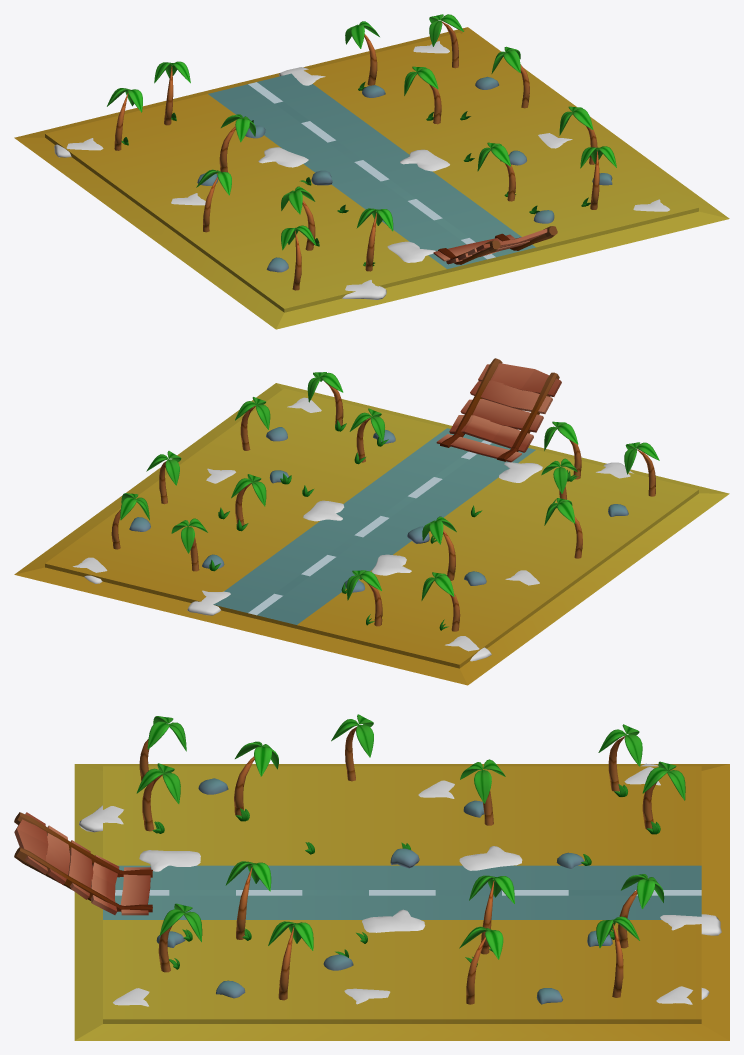
The model's file is взлетка.fbx.
3 views of the same model, one above another, from view 1: azimuth 30°, elevation 25°; view 2: azimuth 150°, elevation 25°; view 3: azimuth 270°, elevation 25° (orthographic). The views are drawn at different scales.
Parts seen in each view (by area): view 1: Cube.007, Cube.017, NurbsPath.014, NurbsPath, NurbsPath.015, NurbsPath.009, NurbsPath.006, NurbsPath.003, NurbsPath.004, NurbsPath.005, NurbsPath.008, NurbsPath.013 (+8 smaller); view 2: Cube.007, Cube.017, NurbsPath.008, NurbsPath.011, NurbsPath.015, NurbsPath.003, NurbsPath.012, NurbsPath.010, NurbsPath.009, NurbsPath.013, NurbsPath, NurbsPath.006 (+8 smaller); view 3: Cube.007, Cube.017, NurbsPath.004, NurbsPath.011, NurbsPath.006, NurbsPath.007, NurbsPath.005, NurbsPath.010, NurbsPath, NurbsPath.009, NurbsPath.015, NurbsPath.013 (+10 smaller).
Boxes of the visible parts, x1=… form: Cube.007: x1=14, y1=27, x2=729, y2=329; Cube.017: x1=433, y1=226, x2=557, y2=264; NurbsPath.014: x1=429, y1=14, x2=463, y2=68; NurbsPath: x1=345, y1=21, x2=379, y2=85; NurbsPath.015: x1=154, y1=61, x2=190, y2=125; NurbsPath.009: x1=580, y1=146, x2=616, y2=209; NurbsPath.006: x1=356, y1=208, x2=393, y2=271; NurbsPath.003: x1=219, y1=114, x2=255, y2=172; NurbsPath.004: x1=107, y1=88, x2=142, y2=150; NurbsPath.005: x1=281, y1=186, x2=315, y2=250; NurbsPath.008: x1=281, y1=225, x2=316, y2=290; NurbsPath.013: x1=404, y1=66, x2=441, y2=124; Cube.007: x1=14, y1=383, x2=729, y2=685; Cube.017: x1=436, y1=358, x2=561, y2=462; NurbsPath.008: x1=624, y1=442, x2=659, y2=496; NurbsPath.011: x1=235, y1=397, x2=270, y2=450; NurbsPath.015: x1=346, y1=570, x2=382, y2=626; NurbsPath.003: x1=422, y1=516, x2=456, y2=580; NurbsPath.012: x1=146, y1=451, x2=181, y2=504; NurbsPath.010: x1=349, y1=408, x2=384, y2=462; NurbsPath.009: x1=307, y1=372, x2=343, y2=425; NurbsPath.013: x1=231, y1=474, x2=266, y2=525; NurbsPath: x1=171, y1=518, x2=207, y2=571; NurbsPath.006: x1=544, y1=421, x2=581, y2=479; Cube.007: x1=74, y1=764, x2=729, y2=1040; Cube.017: x1=14, y1=812, x2=152, y2=915; NurbsPath.004: x1=598, y1=724, x2=642, y2=791; NurbsPath.011: x1=268, y1=921, x2=313, y2=1000; NurbsPath.006: x1=136, y1=763, x2=180, y2=831; NurbsPath.007: x1=331, y1=714, x2=373, y2=781; NurbsPath.005: x1=234, y1=741, x2=278, y2=815; NurbsPath.010: x1=225, y1=861, x2=271, y2=939; NurbsPath: x1=617, y1=874, x2=664, y2=948; NurbsPath.009: x1=158, y1=903, x2=202, y2=972; NurbsPath.015: x1=642, y1=761, x2=685, y2=829; NurbsPath.013: x1=469, y1=875, x2=514, y2=954.
Bounding box in the file's own units: 1856 × 265 × 2027.
